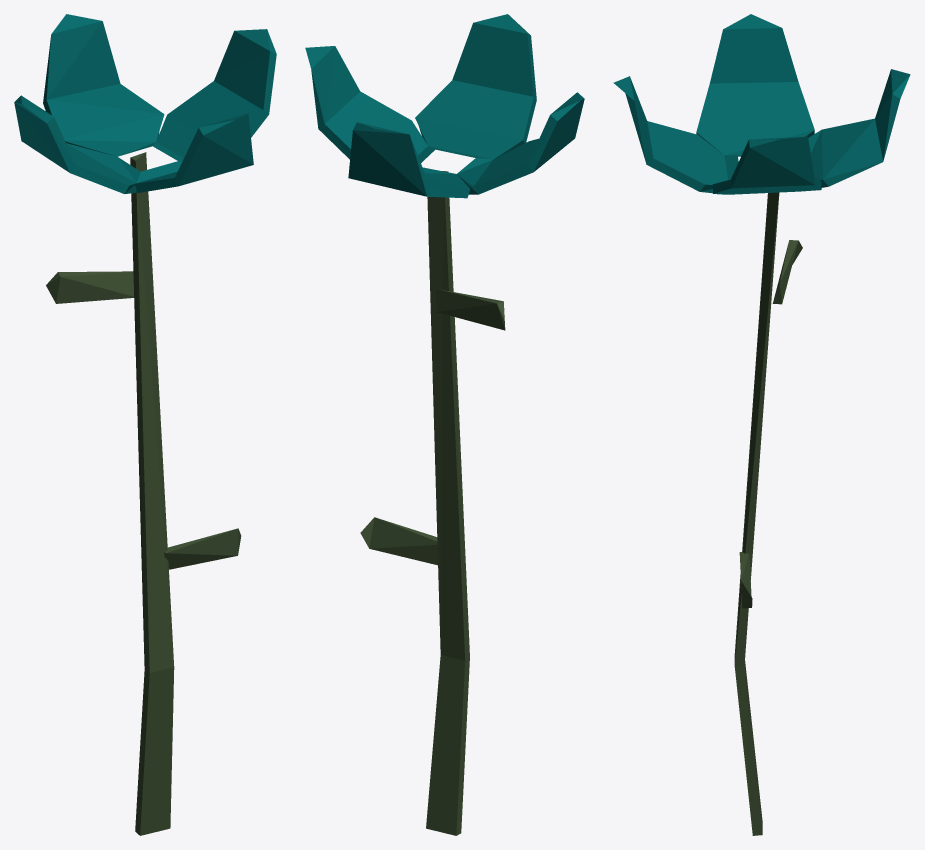
Rendered from plant_flower_2.glb.
3 views of the same model, side by side, from view 1: azimuth 30°, elevation 25°; view 2: azimuth 150°, elevation 25°; view 3: azimuth 270°, elevation 25° (orthographic).
Parts seen in each view (by area): view 1: plant_flower_2; view 2: plant_flower_2; view 3: plant_flower_2.
Part boxes in pixels (x1,y1,x2,y2): plant_flower_2: [14, 14, 276, 835]; plant_flower_2: [305, 14, 584, 835]; plant_flower_2: [613, 14, 910, 835].
Size of the model in its own units: 0.2843 by 0.7939 by 0.2852.
